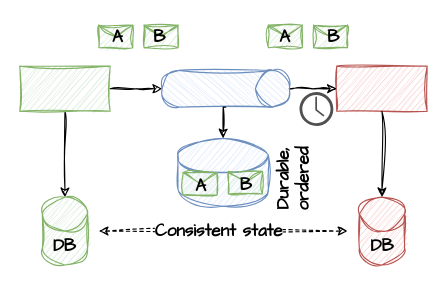
Some shapes in this 447 by 285 pixel diagram are drawn without their labels. The box of each missing label's shape, as (x1, y1, x2, y2) in pixels:
Backbone: (161, 69, 289, 107)
Consumer: (336, 65, 427, 111)
Producer: (19, 65, 110, 111)
